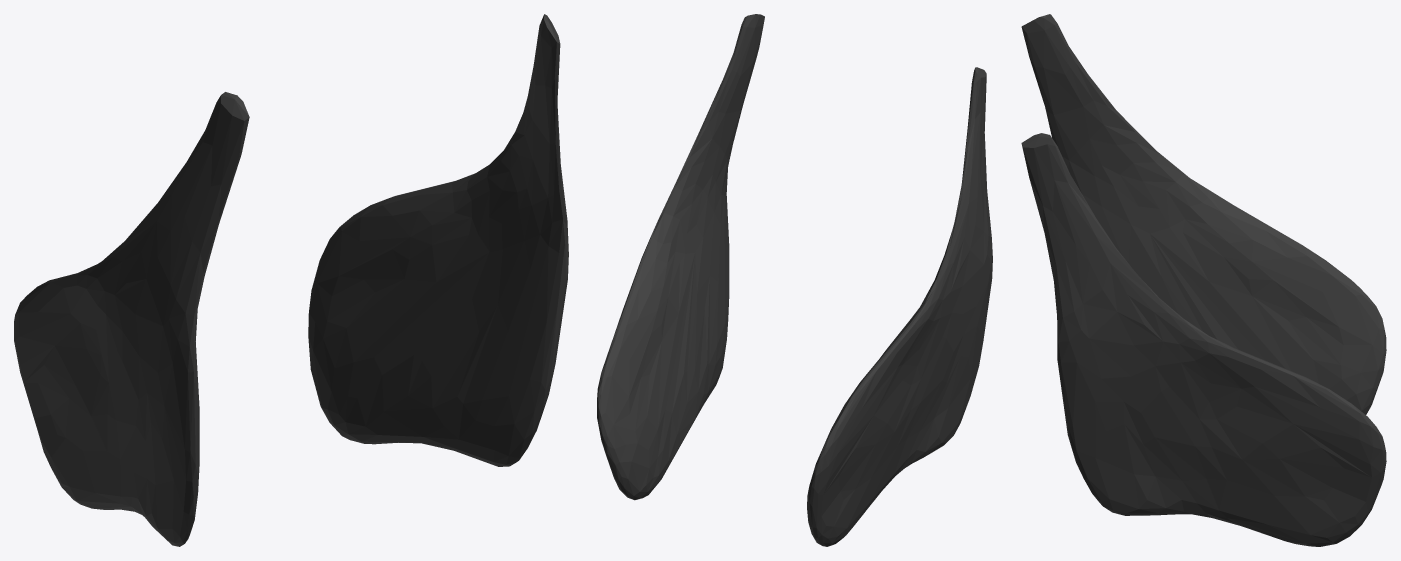
The model's file is m_subscapularis.glb.
3 views of the same model, side by side, from view 1: azimuth 30°, elevation 25°; view 2: azimuth 150°, elevation 25°; view 3: azimuth 270°, elevation 25° (orthographic). The views are drawn at different scales.
Visible parts, largest first — view 1: m_subscapularis; view 2: m_subscapularis; view 3: m_subscapularis.
Part boxes in pixels (x1,y1,x2,y2): m_subscapularis: (14, 14, 568, 546); m_subscapularis: (597, 14, 992, 546); m_subscapularis: (1021, 14, 1386, 546).
Size of the model in its own units: 0.00266 by 0.00349 by 0.00274.
Materials: 1 (1 with a texture image).
